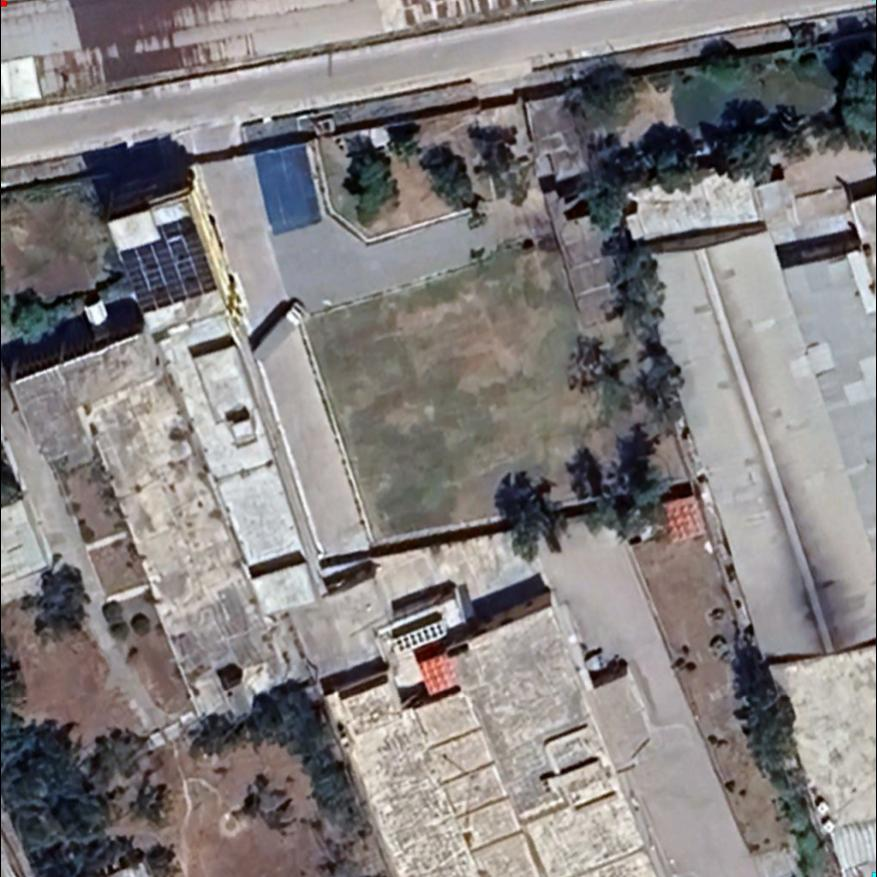Solarpanel: (107, 212, 222, 321)
